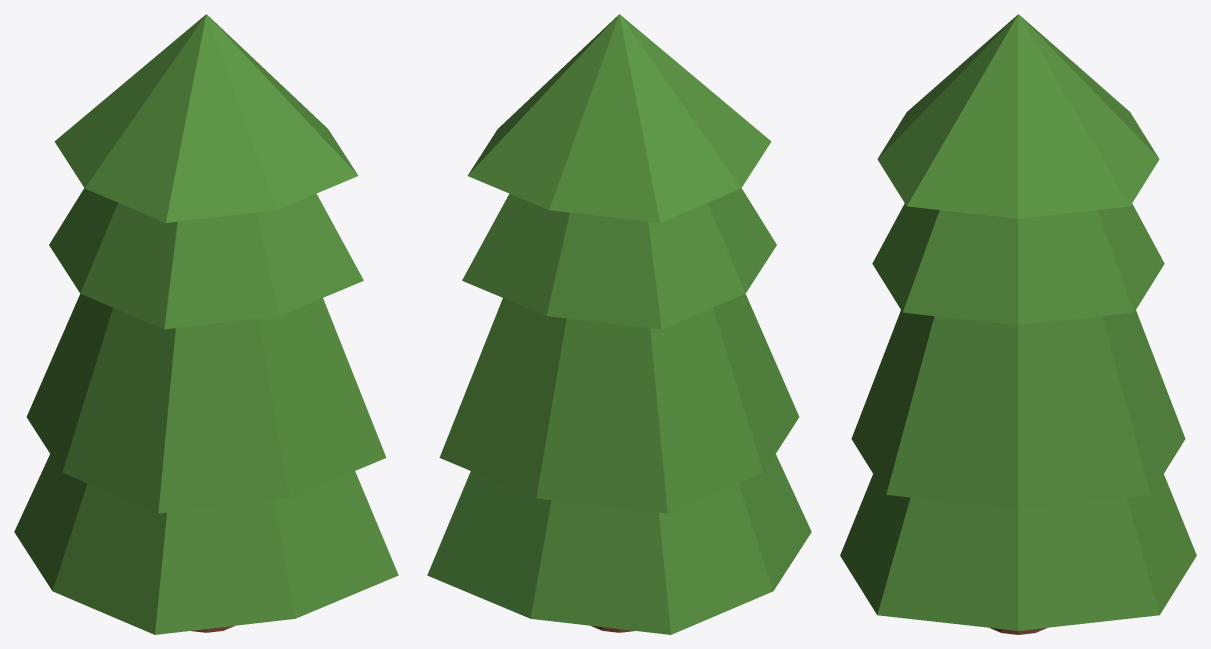
Rendered from Tree_22_summer_mat.fbx.
3 views of the same model, side by side, from view 1: azimuth 30°, elevation 25°; view 2: azimuth 150°, elevation 25°; view 3: azimuth 270°, elevation 25° (orthographic).
Parts seen in each view (by area): view 1: Tree_22_summer_mat; view 2: Tree_22_summer_mat; view 3: Tree_22_summer_mat.
Boxes of the visible parts, x1=… form: Tree_22_summer_mat: x1=14, y1=14, x2=398, y2=634; Tree_22_summer_mat: x1=427, y1=14, x2=811, y2=634; Tree_22_summer_mat: x1=840, y1=14, x2=1196, y2=634.
Bounding box in the file's own units: 3.31 × 6.21 × 3.31.
